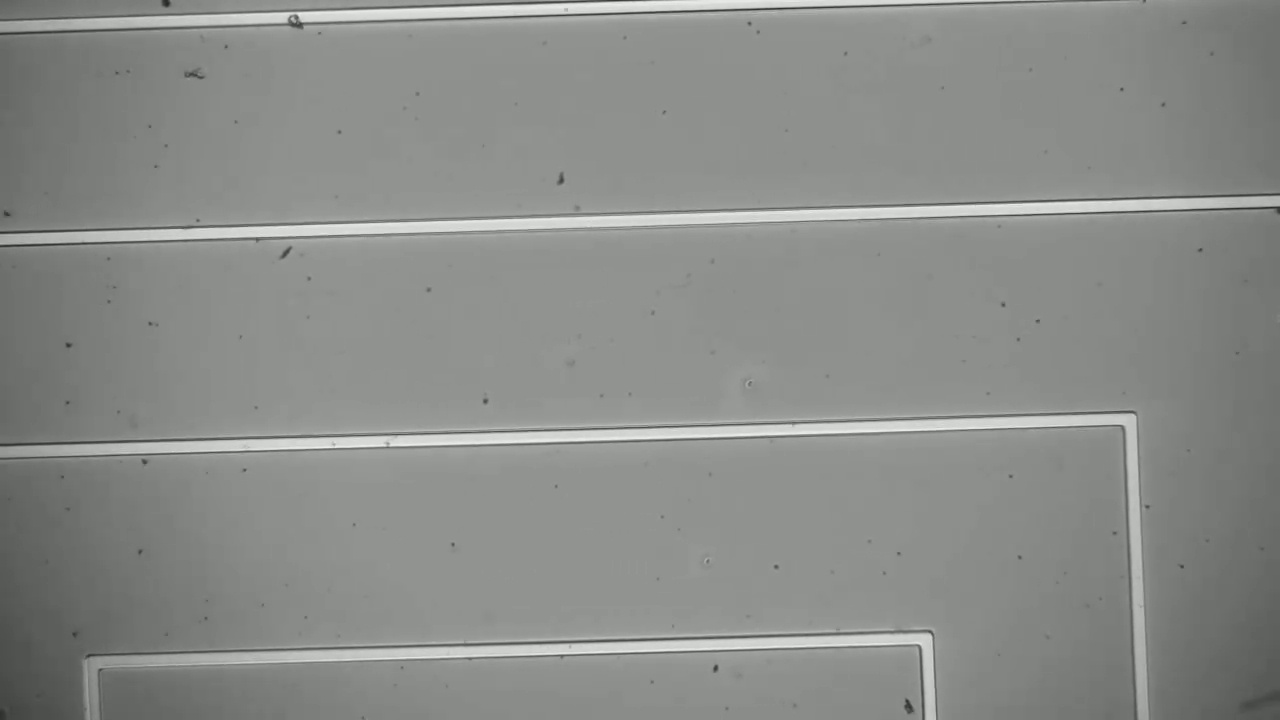stains_enbedded: (277, 6, 309, 34)
